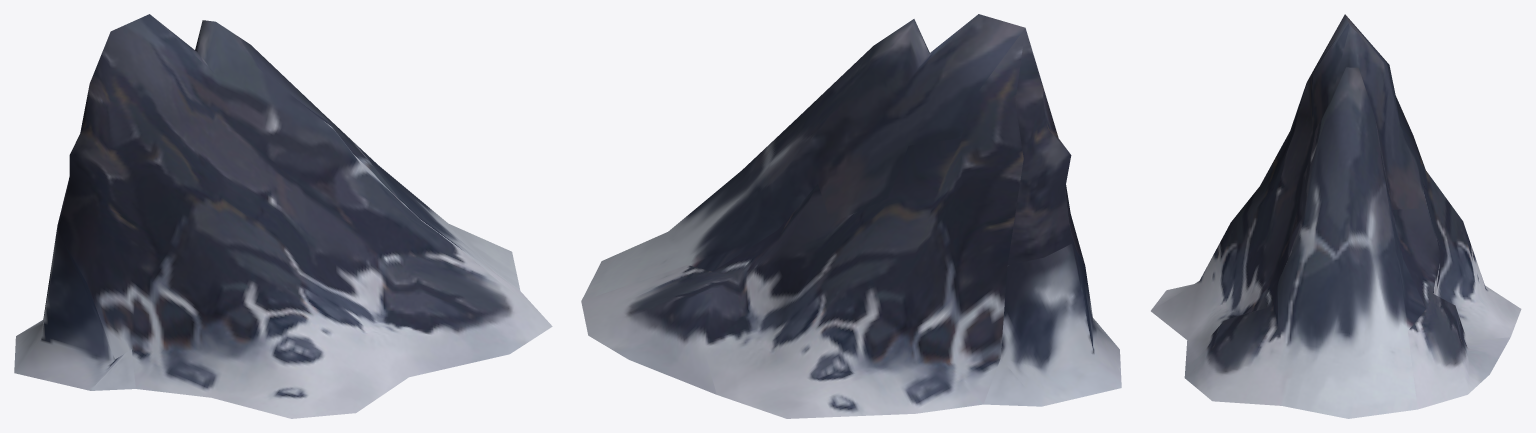
The model's file is LGhuangyuan_shitou06.FBX.
3 views of the same model, side by side, from view 1: azimuth 30°, elevation 25°; view 2: azimuth 150°, elevation 25°; view 3: azimuth 270°, elevation 25° (orthographic). The views are drawn at different scales.
Visible parts, largest first — view 1: LGhuangyuan_shitou06; view 2: LGhuangyuan_shitou06; view 3: LGhuangyuan_shitou06.
Boxes of the visible parts, box(x1,y1,x2,y2) form: LGhuangyuan_shitou06: box(14, 14, 552, 418); LGhuangyuan_shitou06: box(581, 14, 1121, 418); LGhuangyuan_shitou06: box(1151, 14, 1521, 418).
Size of the model in its own units: 121 by 99.84 by 75.65.
